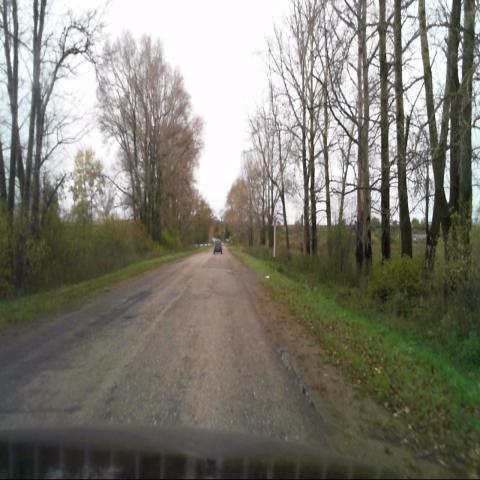2_3_3: (271, 214, 279, 227)
